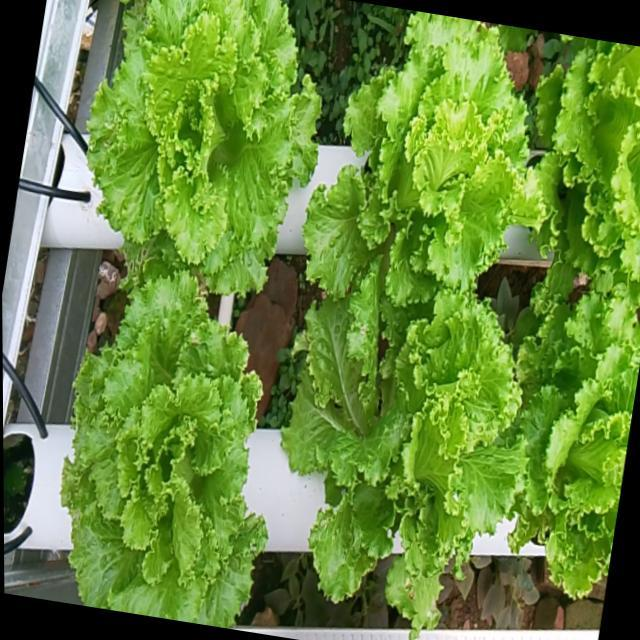Mature: (284, 299, 528, 632), (64, 261, 270, 629), (308, 12, 538, 330), (92, 0, 325, 295), (513, 297, 640, 603), (543, 37, 640, 306)
